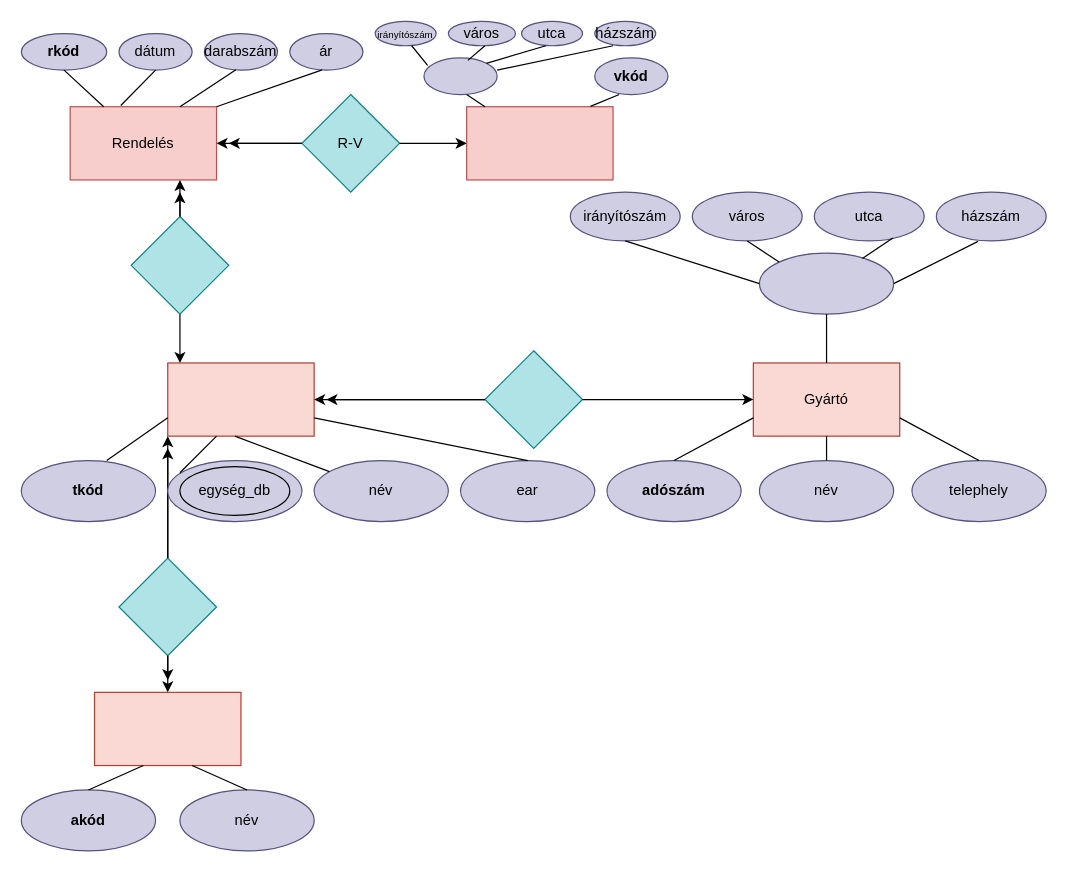
Some shapes in this 1068 by 872 pixel diagram are drawn without their labels. The centre of each missing label's shape, as x and y in pixels:
"Alkatrész" belongs at point 167,728.
"postai cím" belongs at point 826,283.
"R-T" belongs at point 179,264.
"szállítási cím" belongs at point 460,76.
"T-A" belongs at point 167,606.
"T-GY" belongs at point 533,399.
"Termék" belongs at point 240,399.
"Vevő" belongs at point 539,143.
